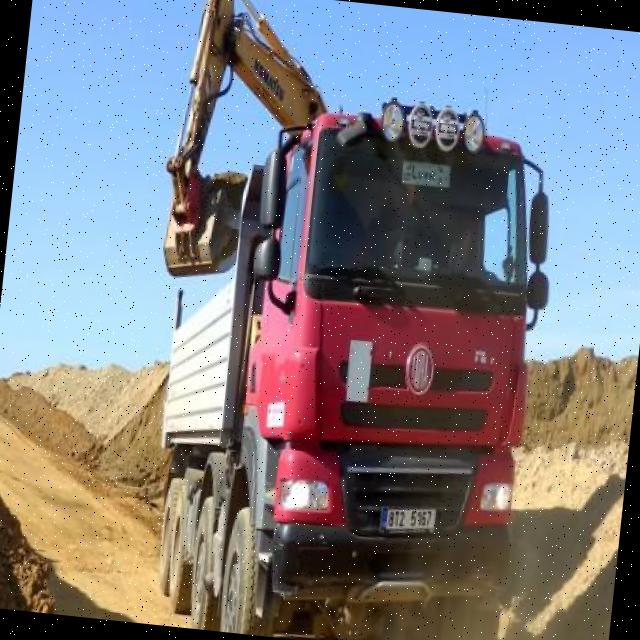Dump Truck: (139, 80, 564, 640)
Excavator: (150, 0, 342, 292)
